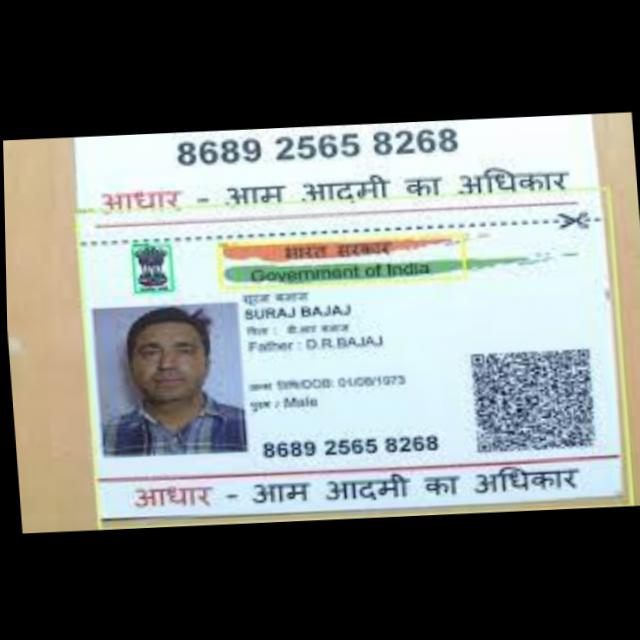aadhaar: (60, 109, 631, 533)
